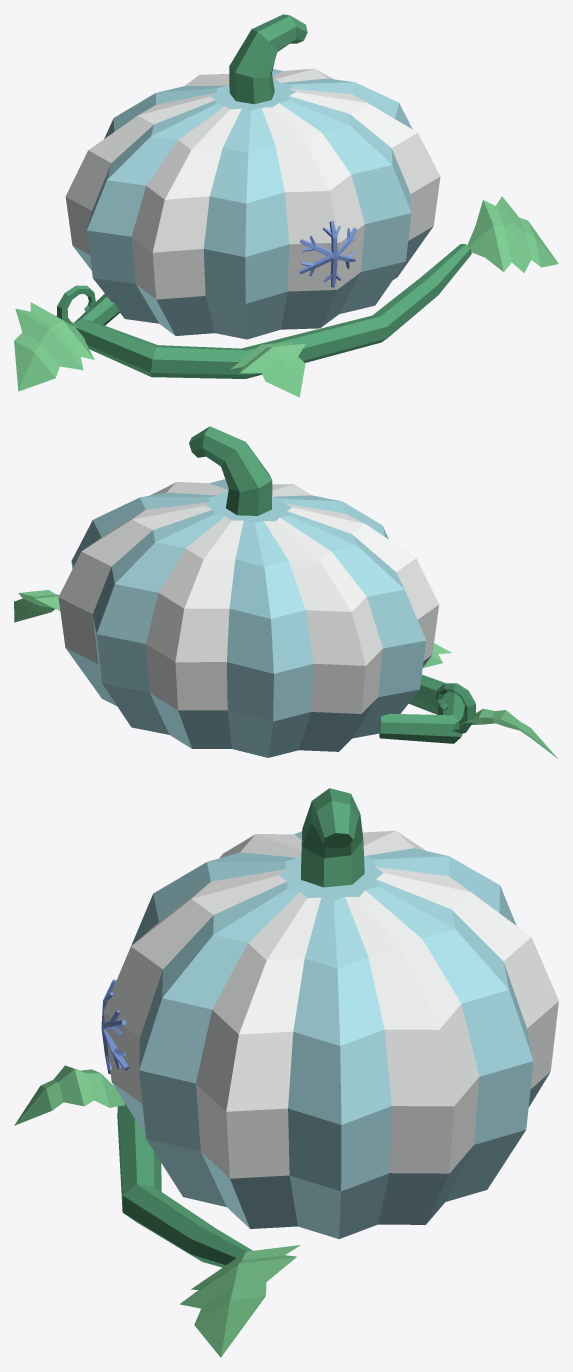
File: 25-frost-melon.glb
The picture shows the model from 3 angles, top to bottom: view 1: azimuth 30°, elevation 25°; view 2: azimuth 150°, elevation 25°; view 3: azimuth 270°, elevation 25°; orthographic projection. The views are drawn at different scales.
Visible parts, largest first — view 1: 25-frost-melon_Body; view 2: 25-frost-melon_Body; view 3: 25-frost-melon_Body.
Boxes of the visible parts, box(x1,y1,x2,y2) form: 25-frost-melon_Body: box(14, 14, 558, 397); 25-frost-melon_Body: box(14, 426, 557, 758); 25-frost-melon_Body: box(14, 788, 558, 1357).
Size of the model in its own units: 0.6347 by 0.322 by 0.3894.
1 material, 1 textured.
